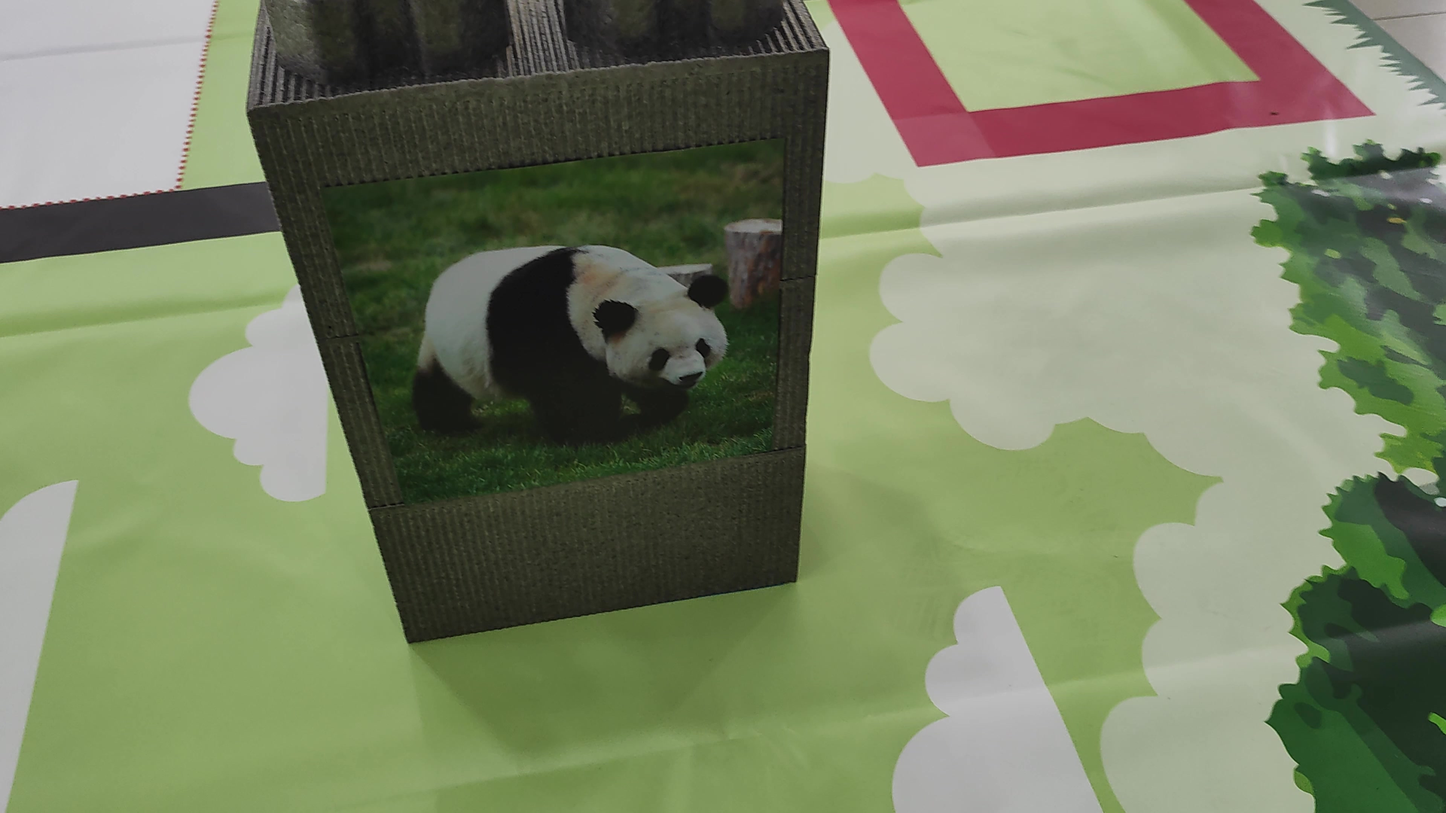panda: (393, 194, 770, 449)
